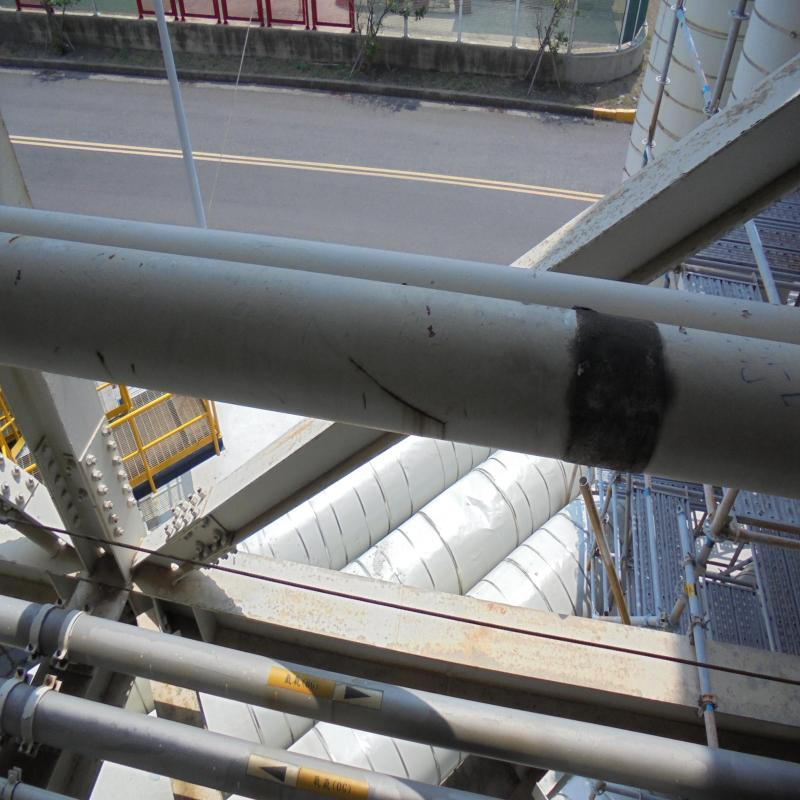corrosion: (571, 302, 684, 478)
